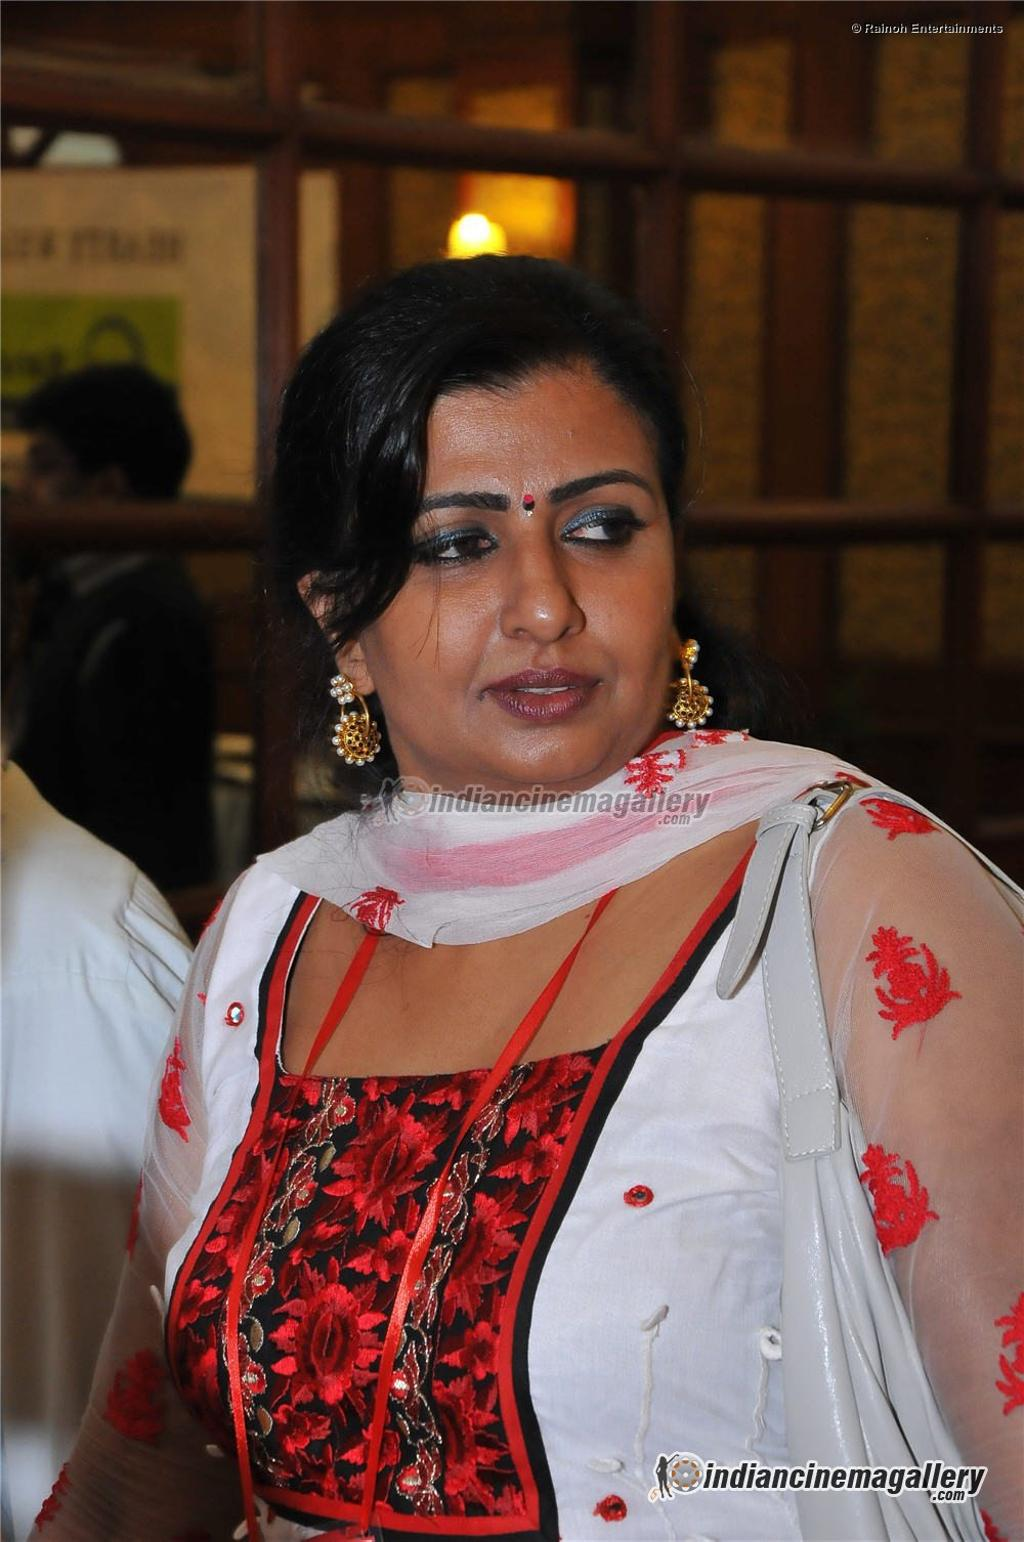face: (356, 353, 678, 775)
